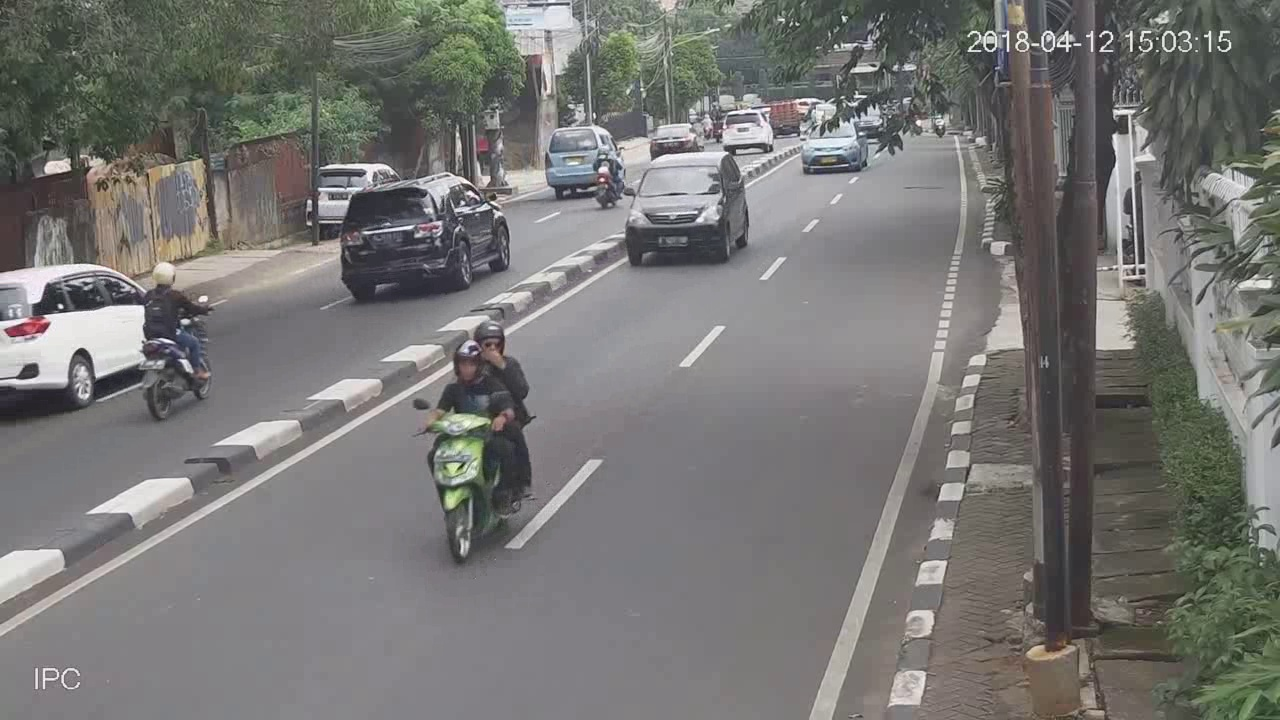car: (336, 169, 511, 300), (1, 261, 150, 413), (625, 149, 751, 265), (544, 121, 615, 197), (722, 105, 773, 155), (650, 121, 695, 159)
motorcycle: (417, 319, 539, 566), (122, 261, 215, 425), (589, 141, 621, 213)
